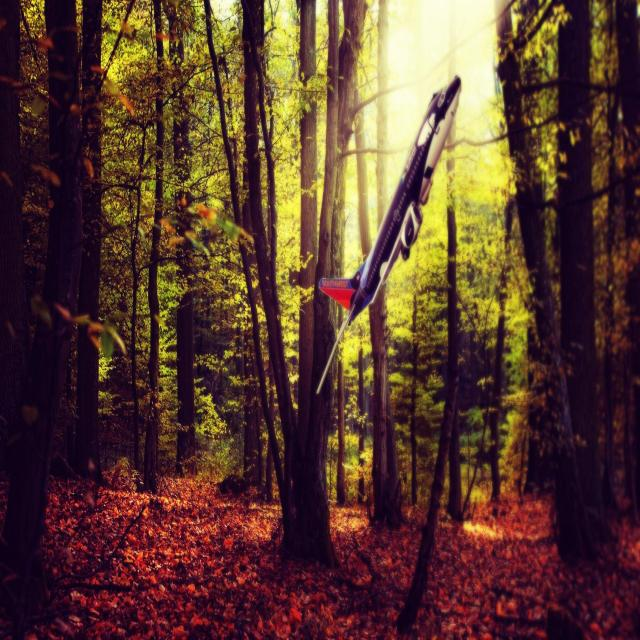airplane: (315, 73, 462, 395)
